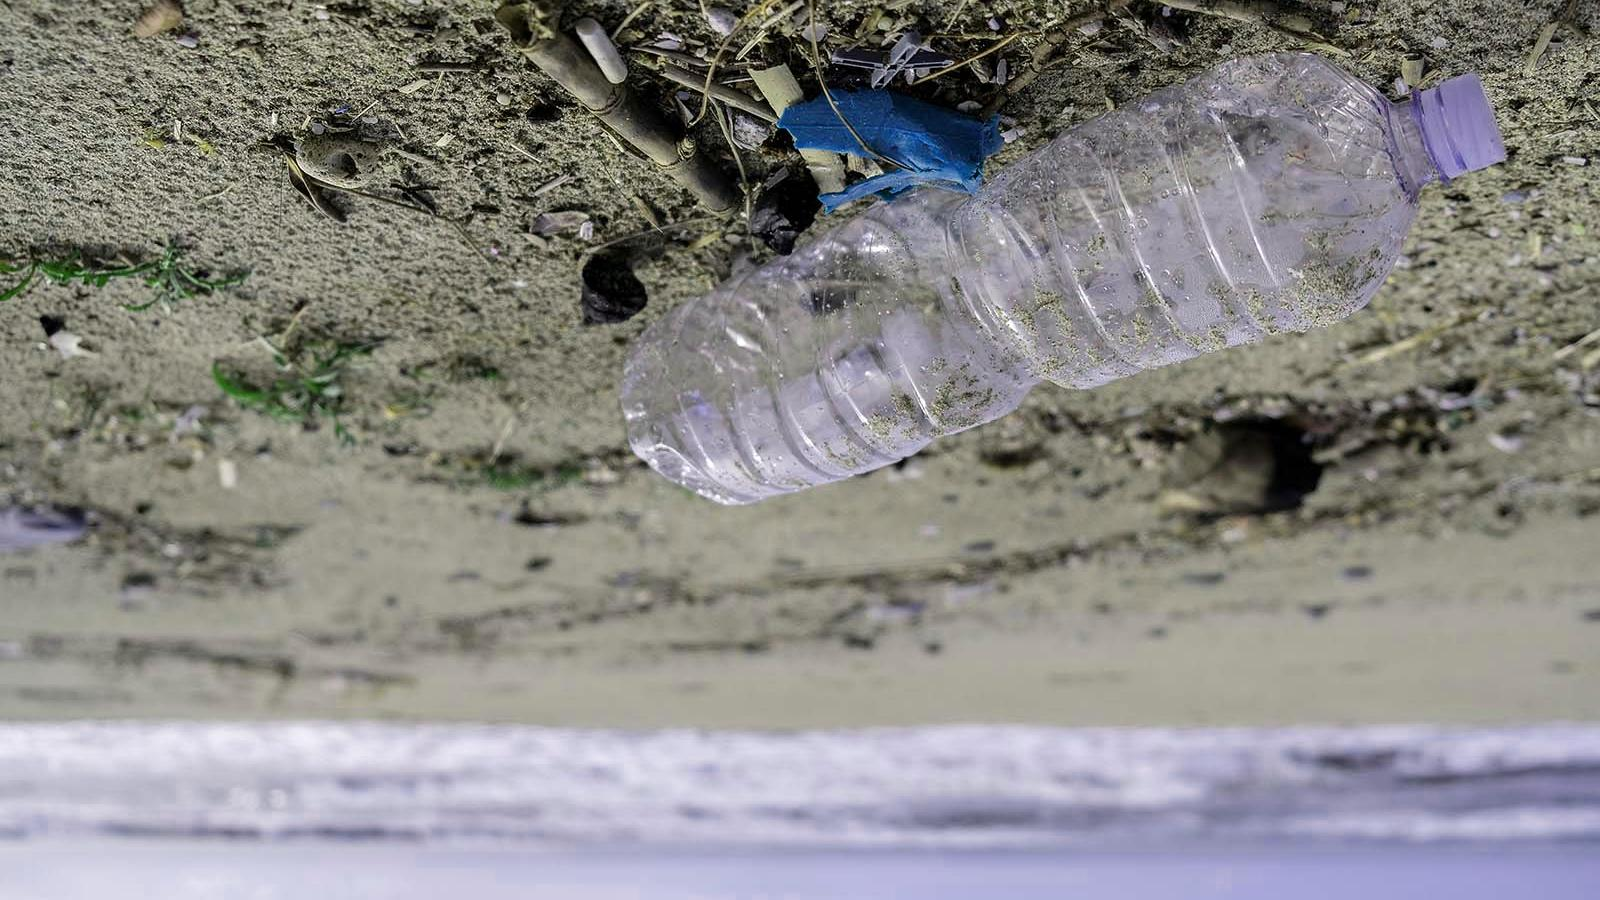Plastic: (575, 24, 1564, 560)
